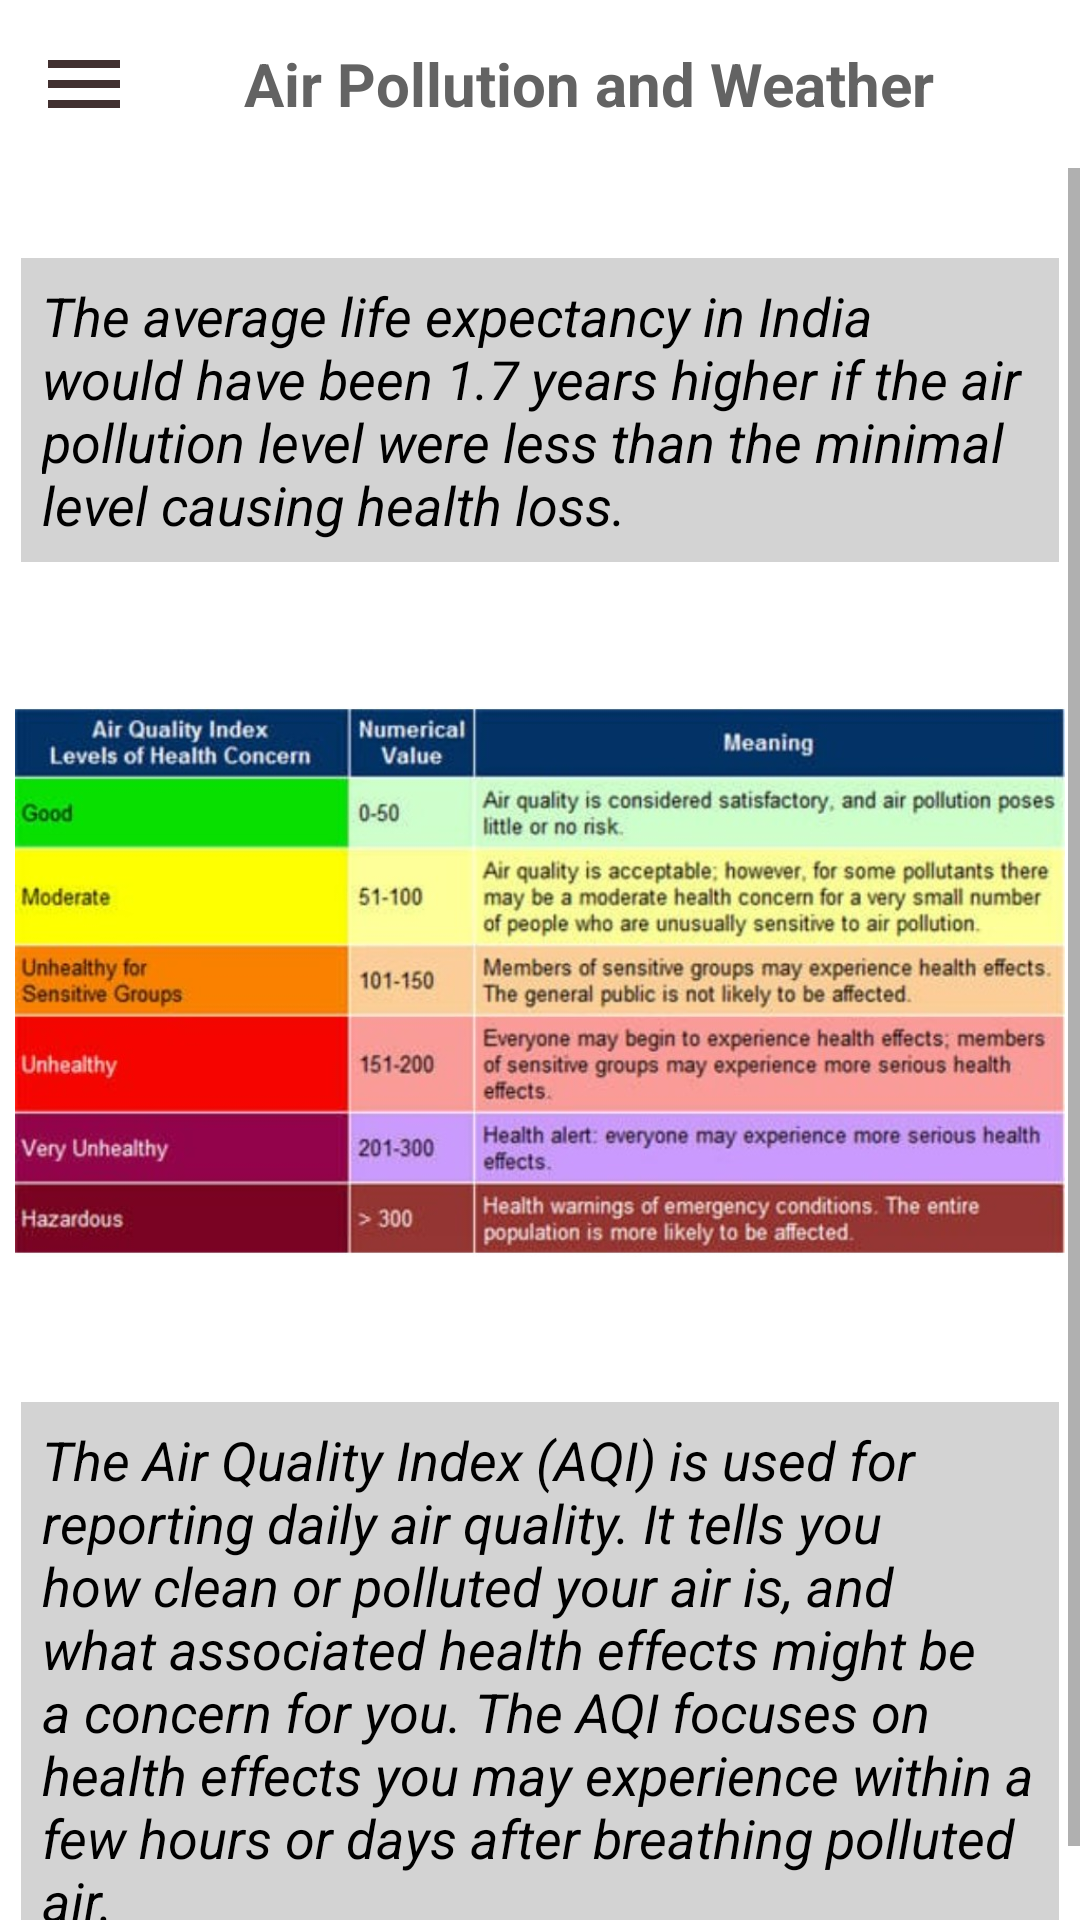

Icon click points for this 1080px x 1920px phone screenshot, format (x=x, y=y):
menu: (x=84, y=84)
